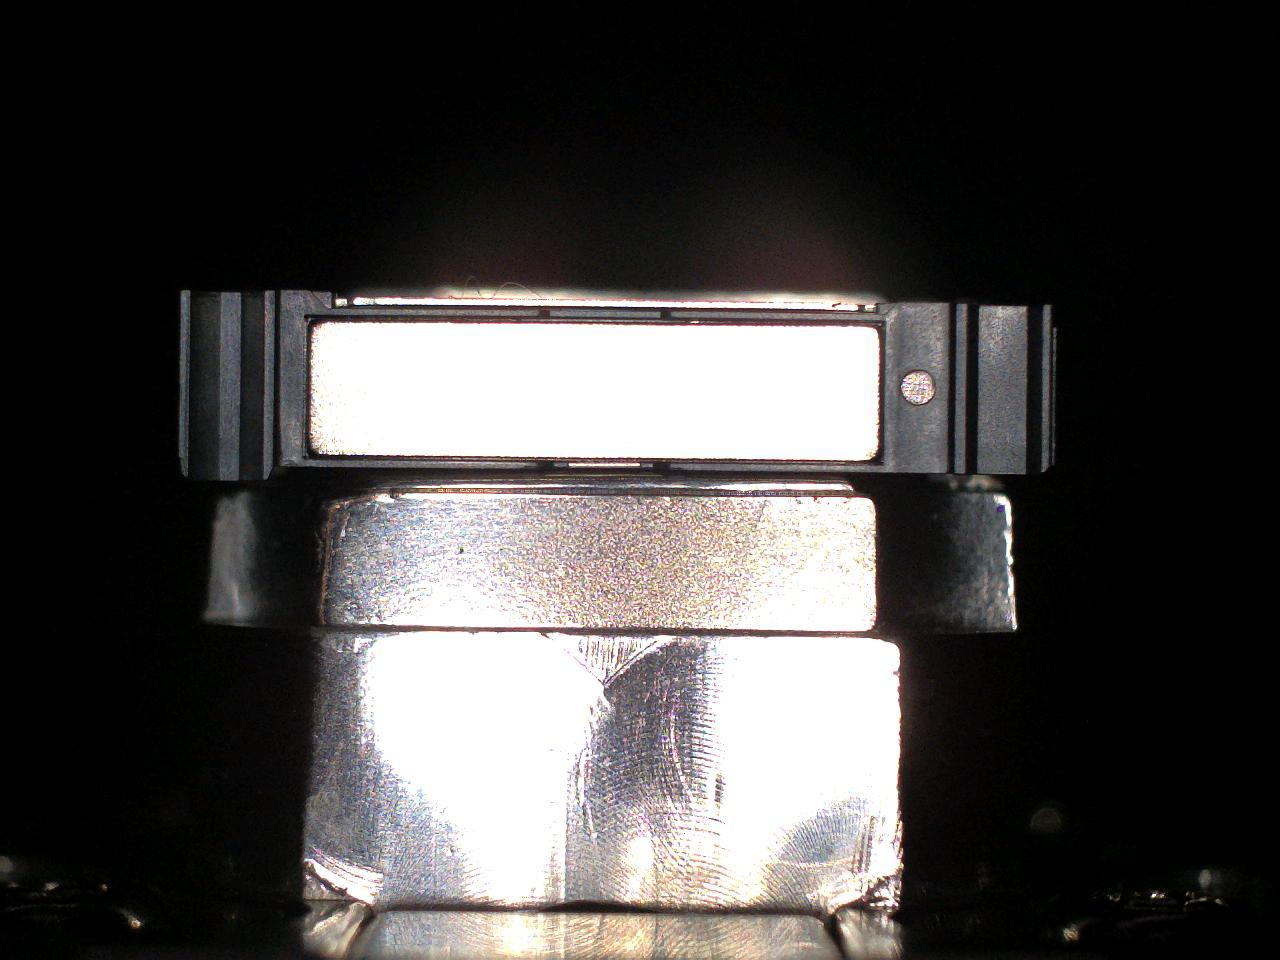frame: (178, 290, 1054, 480)
gap: (672, 318, 877, 327), (311, 316, 539, 324), (310, 454, 538, 462), (671, 458, 878, 465), (549, 317, 662, 326), (552, 458, 654, 463)
magnetic: (310, 323, 879, 461)
